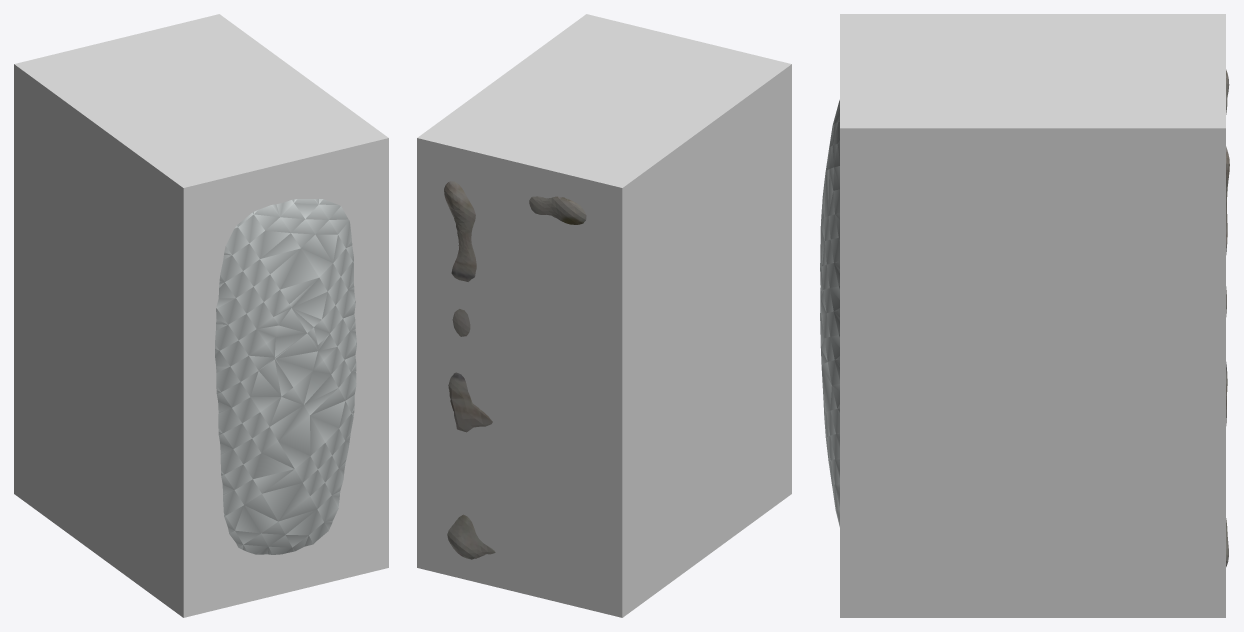
File: recommended.dae
3 renders of one model, left to right at view 1: azimuth 30°, elevation 25°; view 2: azimuth 150°, elevation 25°; view 3: azimuth 270°, elevation 25°, orthographic. The views are drawn at different scales.
Parts seen in each view (by area): view 1: Cube, optimized_poisson_texture_mapped_mesh; view 2: Cube, optimized_poisson_texture_mapped_mesh; view 3: Cube, optimized_poisson_texture_mapped_mesh.
Boxes of the visible parts, x1,y1,x2,y2 form: Cube: (14, 14, 388, 617); optimized_poisson_texture_mapped_mesh: (215, 199, 356, 554); Cube: (417, 14, 791, 617); optimized_poisson_texture_mapped_mesh: (444, 181, 586, 559); Cube: (840, 14, 1225, 617); optimized_poisson_texture_mapped_mesh: (820, 69, 1229, 566).
Size of the model in its own units: 0.07 by 0.1062 by 0.1402.
1 material, 1 textured.
